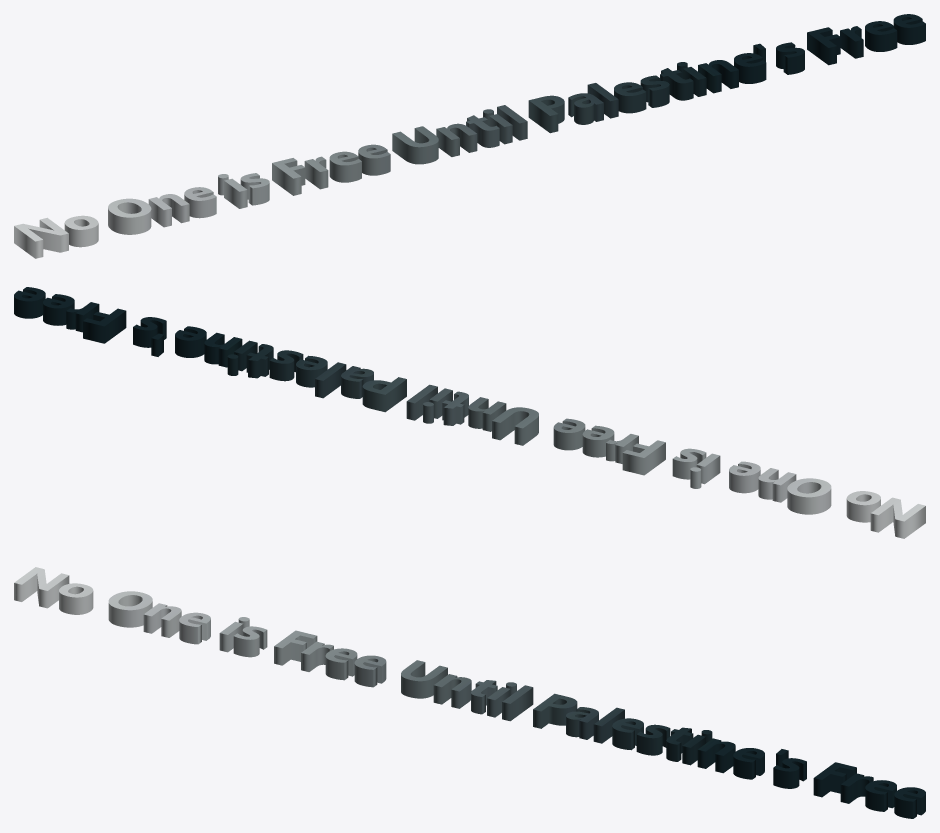
3 renders of one model, top to bottom at view 1: azimuth 30°, elevation 25°; view 2: azimuth 150°, elevation 25°; view 3: azimuth 330°, elevation 25°, orthographic.
Parts seen in each view (by area): view 1: 文字.010; view 2: 文字.010; view 3: 文字.010.
Part boxes in pixels (box(x1,y1,x2,y2)): 文字.010: box(14, 14, 925, 258); 文字.010: box(14, 287, 925, 538); 文字.010: box(14, 567, 925, 818).
Bounding box in the file's own units: 14.09 × 0.26 × 0.6298.
1 material, 1 textured.
